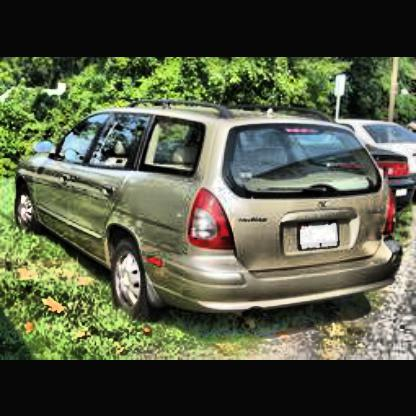Daewoo Nubira Wagon 2002: (16, 111, 402, 319)
